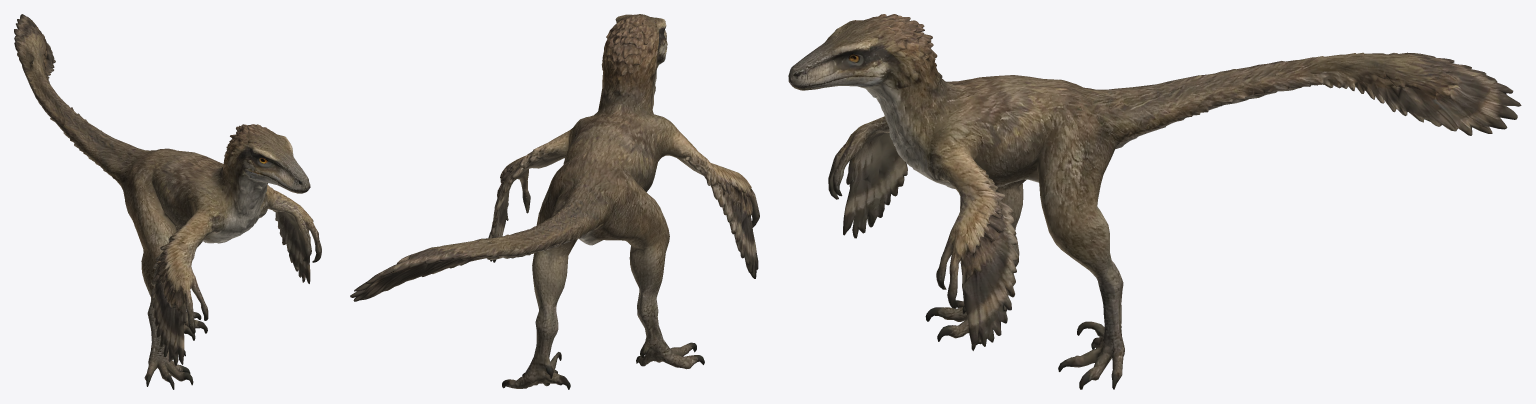
File: velociraptor.glb
3 views of the same model, side by side, from view 1: azimuth 30°, elevation 25°; view 2: azimuth 150°, elevation 25°; view 3: azimuth 270°, elevation 25° (orthographic). The views are drawn at different scales.
Parts seen in each view (by area): view 1: dino; view 2: dino; view 3: dino.
Boxes of the visible parts, <box> form: dino: <box>14,14,321,389</box>; dino: <box>350,14,759,389</box>; dino: <box>788,14,1521,389</box>.
Size of the model in its own units: 0.7245 by 0.9714 by 1.8.
1 material, 1 textured.
